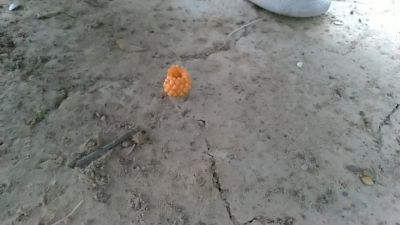eggs: (163, 63, 191, 99)
